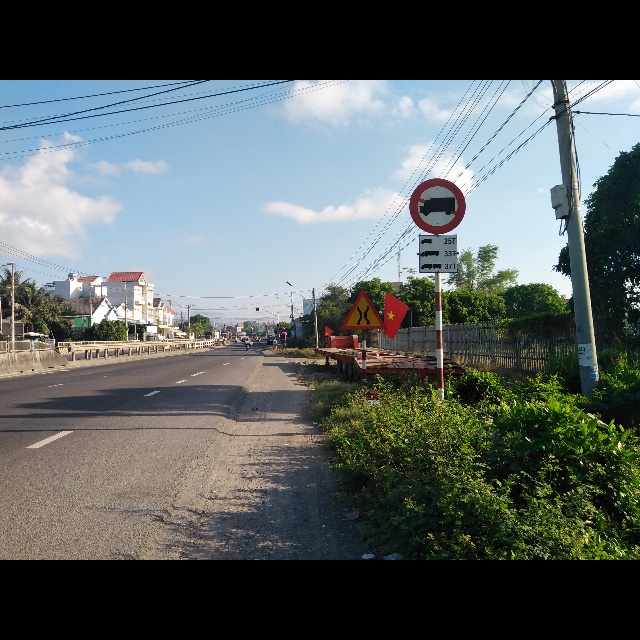Cấm xe tải: (407, 178, 468, 237)
Cầu hẹp: (338, 289, 384, 333)
